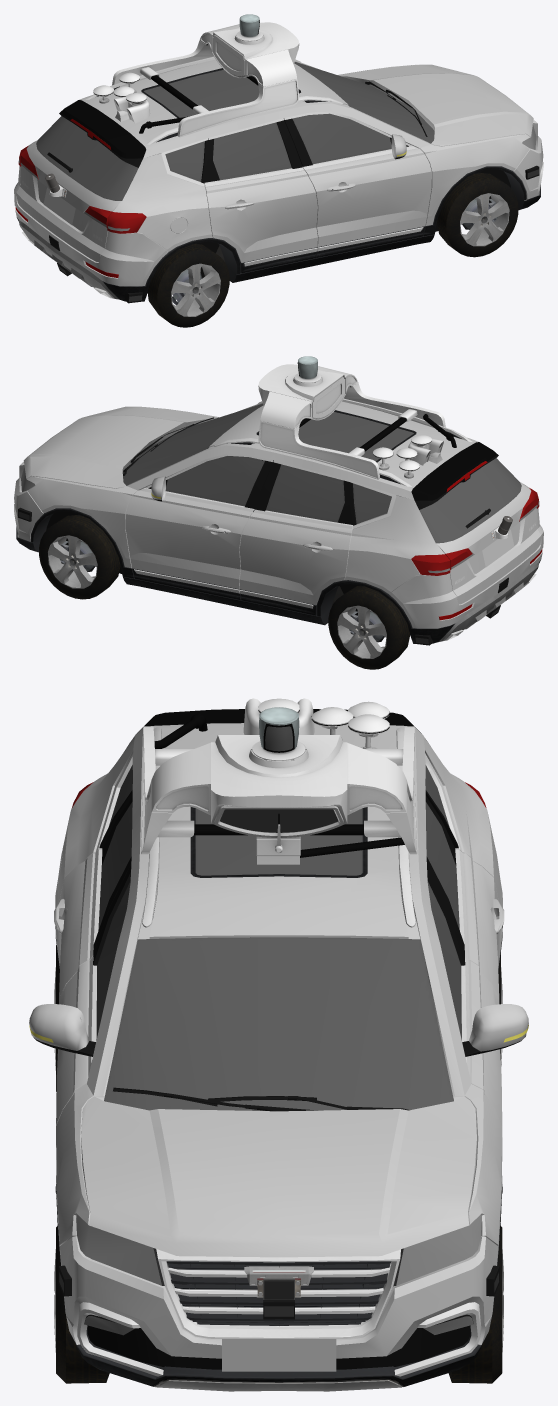
Rendered from sm_mainsuv1.fbx.
3 views of the same model, one above another, from view 1: azimuth 30°, elevation 25°; view 2: azimuth 150°, elevation 25°; view 3: azimuth 270°, elevation 25° (orthographic). The views are drawn at different scales.
Parts seen in each view (by area): view 1: mainsuv_zx; view 2: mainsuv_zx; view 3: mainsuv_zx.
Part boxes in pixels (x1=…): mainsuv_zx: x1=14, y1=14, x2=543, y2=327; mainsuv_zx: x1=14, y1=356, x2=543, y2=669; mainsuv_zx: x1=29, y1=698, x2=528, y2=1391.
Bounding box in the file's own units: 4.77 × 2.34 × 2.18.
